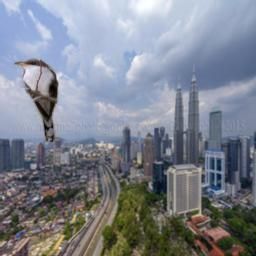Cuckoo: (14, 58, 59, 142)
